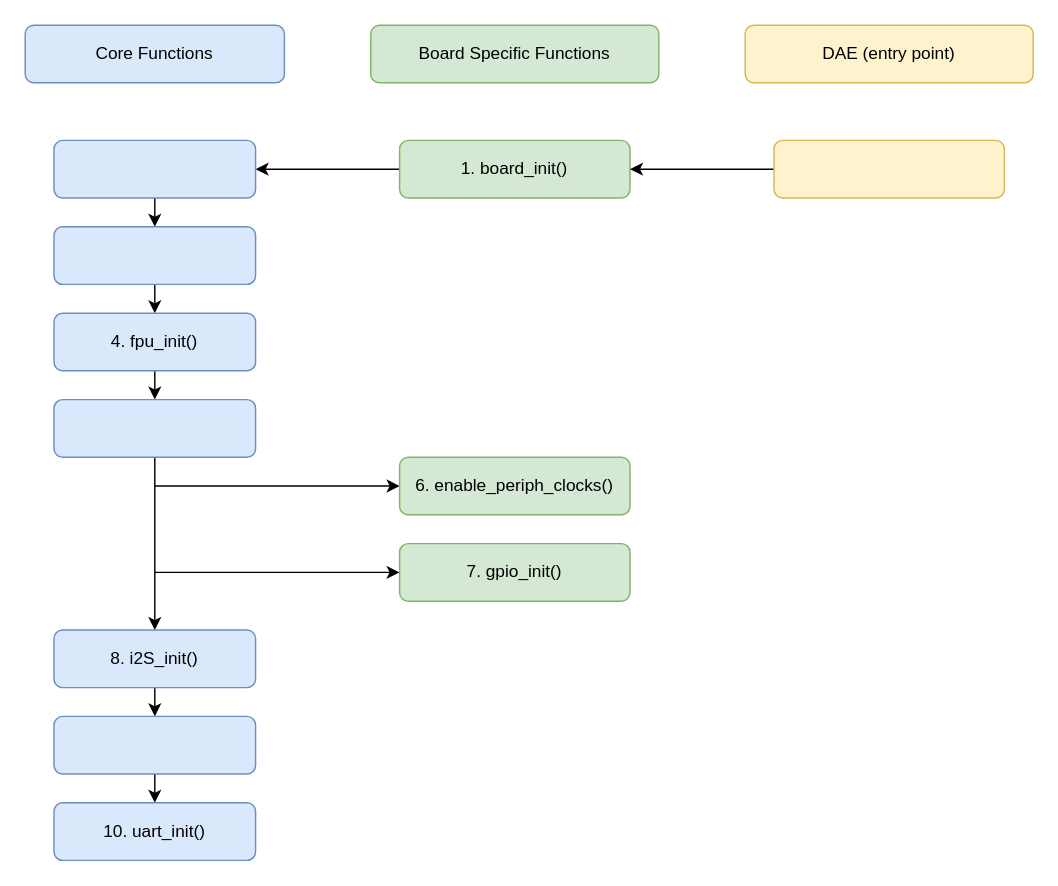
Image size: 1058x886. Some labels were removed from this diagram. Here are the shapes that lost their labels. From the top down, the box of each, then its label:
(53, 139, 256, 198): 2. core_board_init()
(773, 139, 1004, 198): dae_task()
(53, 225, 256, 284): 3. clock_init()
(53, 398, 256, 457): 5. flash_cache_init
(53, 715, 256, 774): 9. dma_i2s_init()
